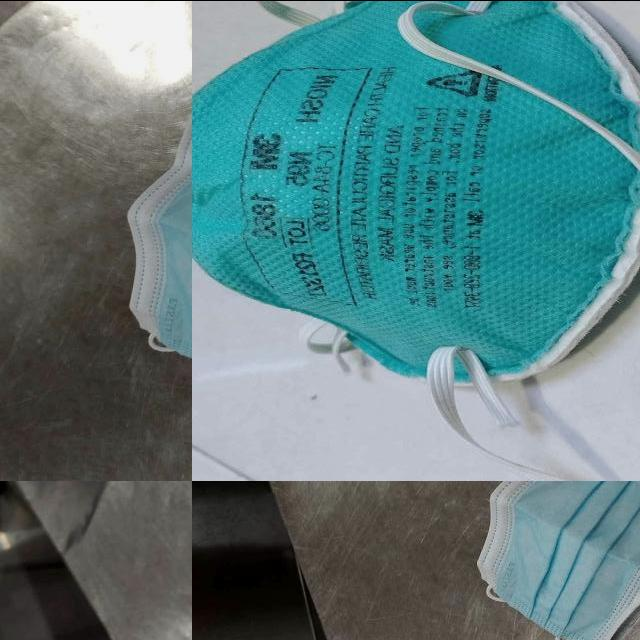Infectious: (188, 0, 638, 388)
Sharps: (453, 344, 520, 428)
